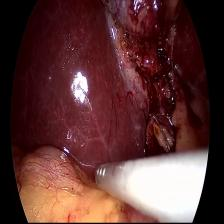Irrigator: (91, 159, 118, 199)
